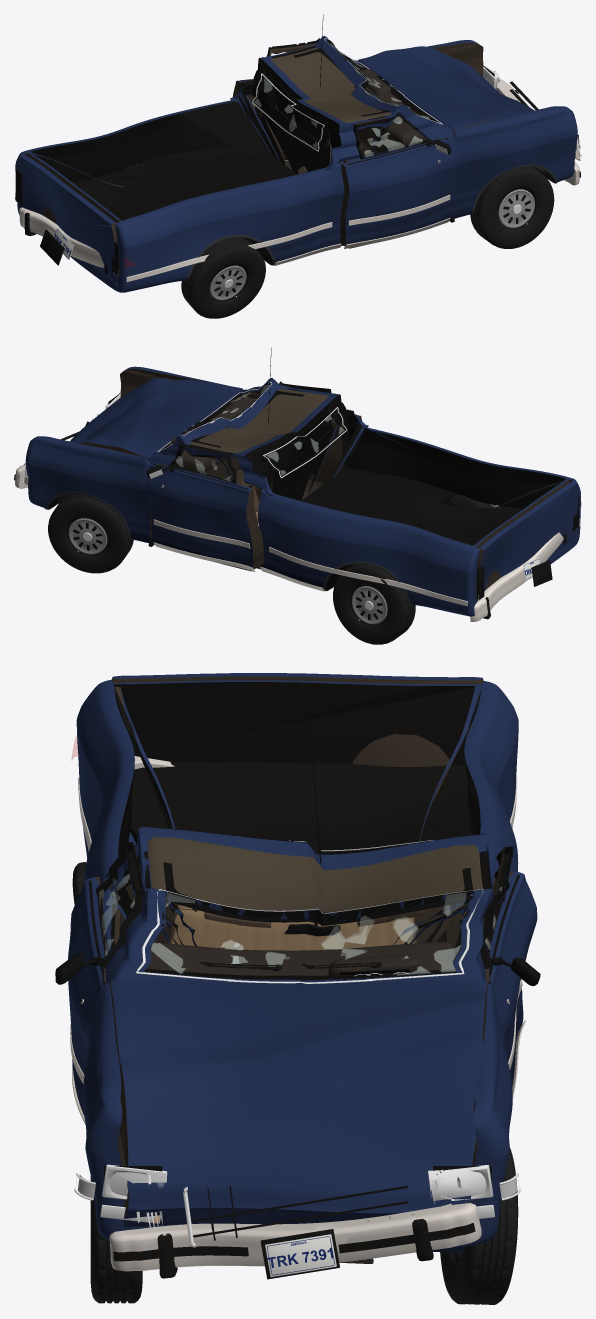
The model's file is pickup87_roll_d1.glb.
3 renders of one model, top to bottom at view 1: azimuth 30°, elevation 25°; view 2: azimuth 150°, elevation 25°; view 3: azimuth 270°, elevation 25°, orthographic. The views are drawn at different scales.
Visible parts, largest first — view 1: Body, Door_FR, Hood, Wheel_FR_mesh, Wheel_RR_mesh, Tailgate, Trim, Interior, Ends, Trim_FR, Glass, Bumper_R (+3 smaller); view 2: Body, Door_FL, Hood, Wheel_FL_mesh, Wheel_RL_mesh, Tailgate, Trim, Trim_FL, Bumper_R, Interior, Glass, Ends; view 3: Body, Hood, Interior, Bumper_F, Ends, Glass, Door_FR, Door_FL, Tailgate, Wheel_FL_mesh, Wheel_FR_mesh, Trim_FR (+3 smaller).
Boxes of the visible parts, x1,y1,x2,y2 form: Body: (15,36,577,292); Door_FR: (340,112,455,246); Hood: (358,46,575,173); Wheel_FR_mesh: (470,167,554,248); Wheel_RR_mesh: (181,237,265,318); Tailgate: (18,153,116,283); Trim: (126,14,557,281); Interior: (302,69,423,170); Ends: (15,66,581,275); Trim_FR: (344,115,451,248); Glass: (252,38,442,151); Bumper_R: (19,207,107,274); Body: (25,366,580,616); Door_FL: (146,441,263,569); Hood: (45,377,242,509); Wheel_FL_mesh: (48,494,133,573); Wheel_RL_mesh: (333,564,415,644); Tailgate: (475,481,578,603); Trim: (46,347,502,605); Trim_FL: (146,444,255,571); Bumper_R: (470,532,566,621); Interior: (171,398,259,522); Glass: (157,381,347,478); Ends: (22,392,579,600); Body: (76,679,518,1246); Hood: (109,979,487,1252); Interior: (146,904,454,976); Bumper_F: (109,1203,481,1278); Ends: (74,1164,521,1279); Glass: (136,840,483,983); Door_FR: (68,841,145,1115); Door_FL: (480,846,537,1087); Tailgate: (112,673,483,766); Wheel_FL_mesh: (440,1148,518,1304); Wheel_FR_mesh: (90,1176,142,1303); Trim_FR: (55,842,136,1124).
Bounding box in the file's own units: 5.16 × 2.27 × 2.2.
34 materials, 5 textured.
